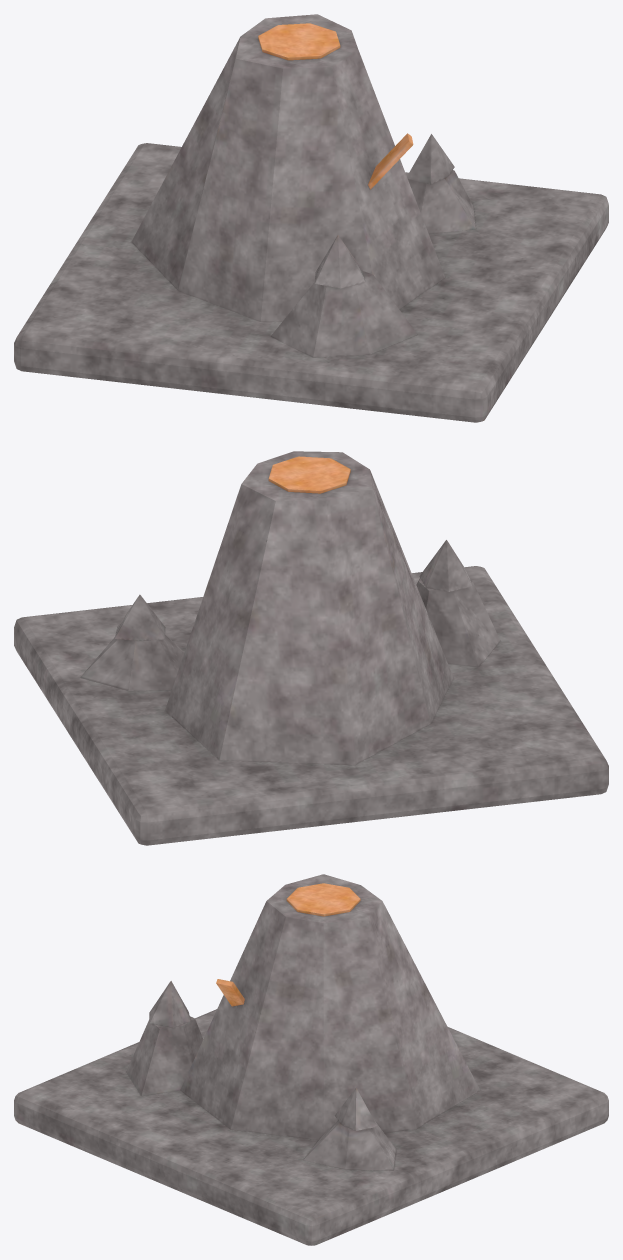
File: horda_hills.glb
3 views of the same model, one above another, from view 1: azimuth 30°, elevation 25°; view 2: azimuth 150°, elevation 25°; view 3: azimuth 270°, elevation 25° (orthographic). The views are drawn at different scales.
Parts seen in each view (by area): view 1: dilek; view 2: dilek; view 3: dilek.
Part boxes in pixels (x1=…): dilek: x1=14, y1=14, x2=608, y2=422; dilek: x1=14, y1=451, x2=608, y2=845; dilek: x1=14, y1=874, x2=608, y2=1245.
Bounding box in the file's own units: 2.42 × 1 × 2.42.
Materials: 1 (1 with a texture image).
